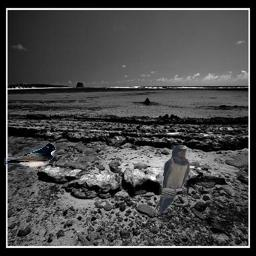Swallow: (154, 145, 190, 213), (4, 143, 56, 172)
